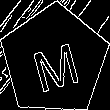M_N: (26, 29, 82, 91)
